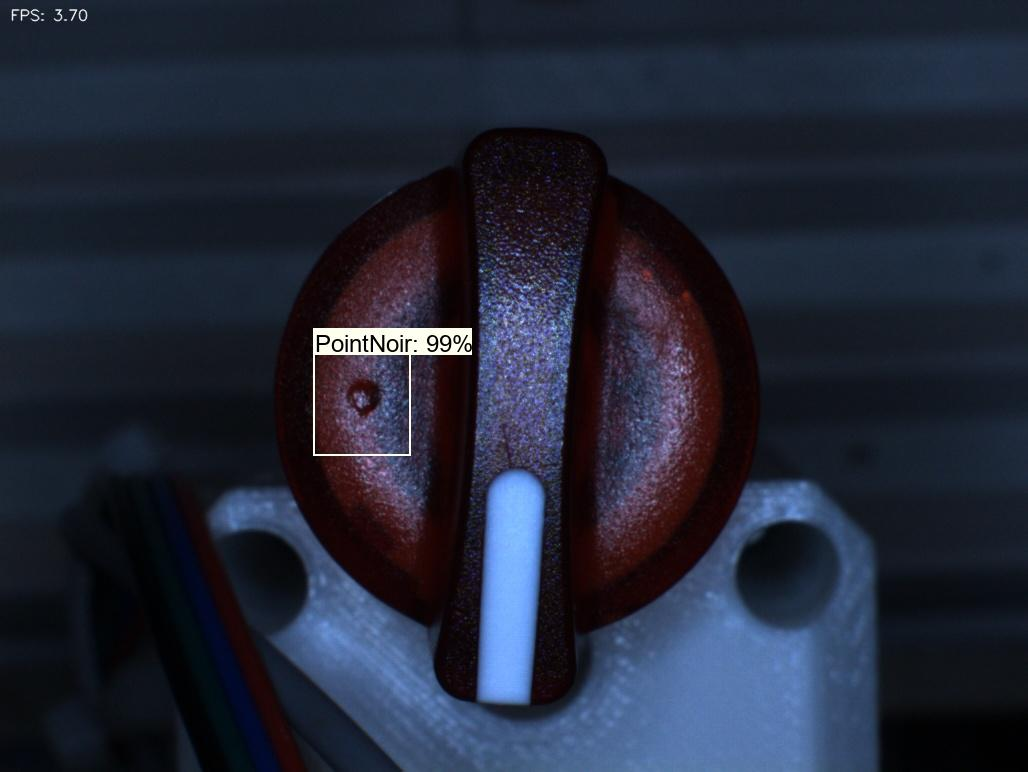Choc: (316, 362, 402, 444)
